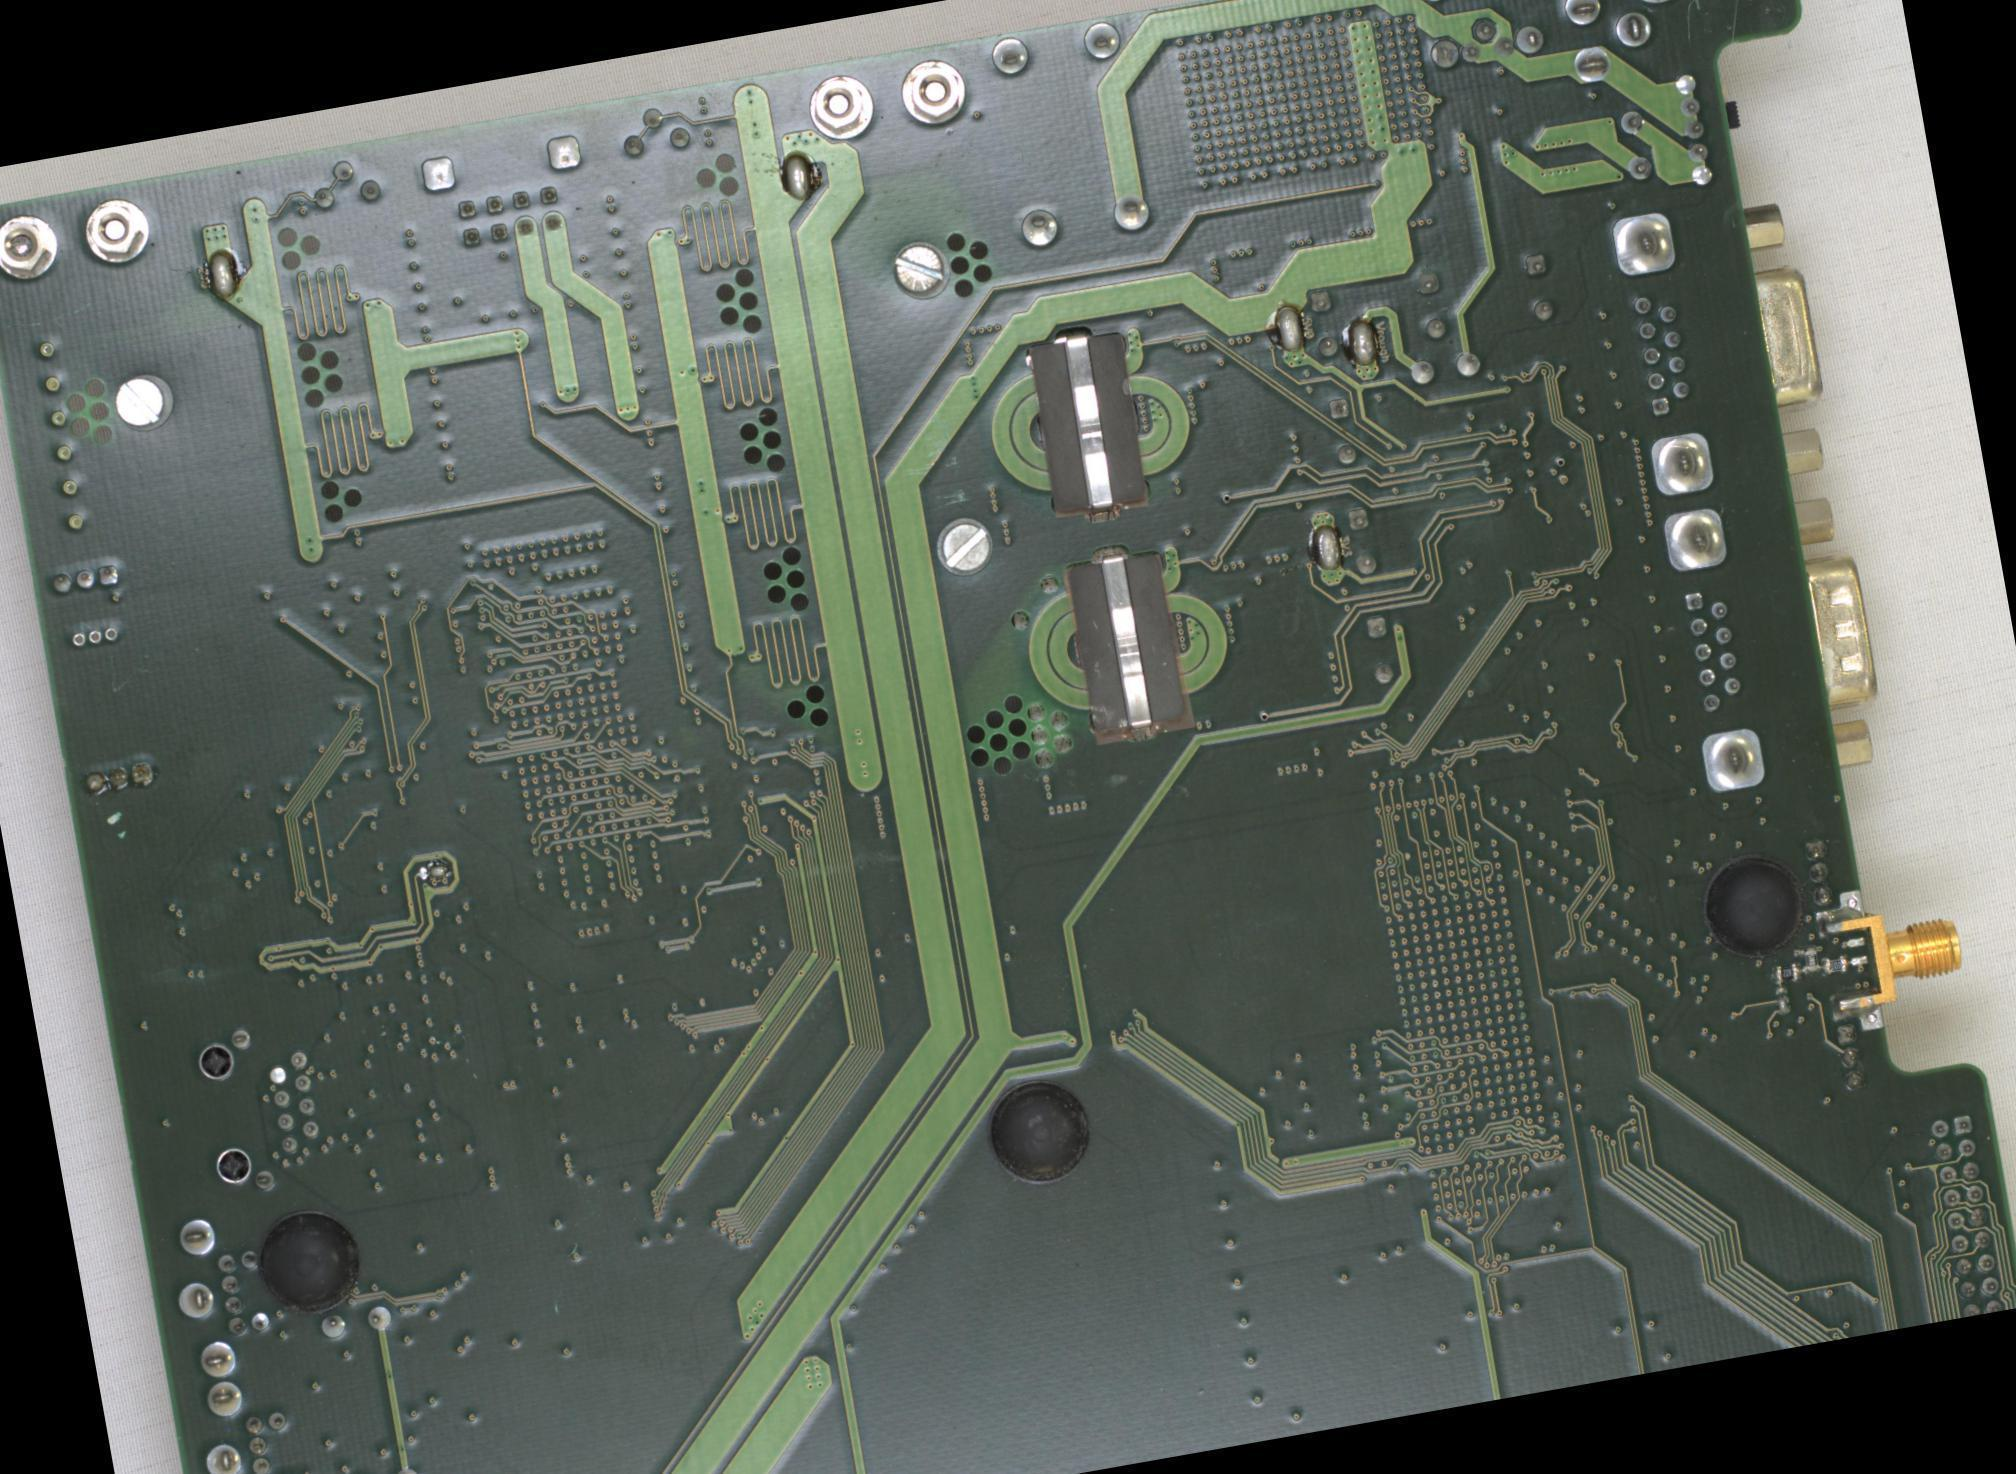Capacitor: (203, 245, 240, 302), (1272, 302, 1306, 354), (778, 150, 812, 201), (1308, 521, 1342, 569), (1345, 318, 1378, 367), (426, 863, 448, 879)
Connector: (1725, 193, 1841, 482), (1779, 486, 1894, 776), (1811, 874, 1971, 1037), (30, 334, 89, 537), (64, 620, 122, 651)
Pads: (1845, 934, 1868, 966)
Pins: (981, 17, 1159, 256), (154, 1211, 267, 1473), (314, 1301, 425, 1473), (1924, 1109, 2007, 1317), (188, 1022, 280, 1204), (1607, 70, 1723, 202), (1411, 247, 1559, 346), (1640, 425, 1734, 579), (413, 128, 588, 198), (1408, 0, 1551, 75), (1623, 286, 1698, 420), (1555, 0, 1660, 90), (1677, 583, 1746, 717), (451, 180, 567, 249), (260, 1046, 325, 1160), (1602, 204, 1682, 285), (1691, 720, 1770, 799), (213, 1246, 273, 1340), (303, 150, 385, 218), (612, 99, 693, 162), (239, 1405, 302, 1473), (77, 756, 158, 801), (1405, 347, 1486, 388), (45, 557, 124, 597), (1360, 610, 1397, 685), (1305, 285, 1341, 362), (1833, 1019, 1867, 1095), (1343, 505, 1378, 578), (1799, 834, 1834, 907), (1322, 394, 1357, 466)
Resistor: (1798, 945, 1821, 972), (1821, 954, 1847, 975), (1773, 963, 1798, 982)
